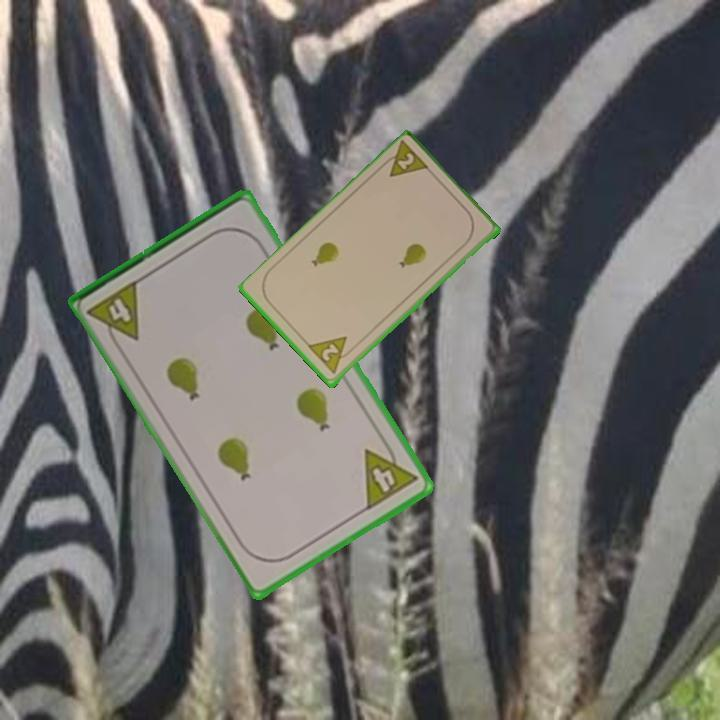2p: (376, 138, 433, 181), (305, 333, 357, 377)
4p: (360, 435, 421, 513), (84, 276, 143, 353)
